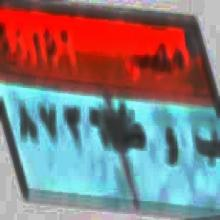2: (64, 104, 83, 157)
6: (88, 102, 108, 160)
7: (39, 97, 58, 148)
8: (16, 97, 36, 148)
Thaa: (118, 99, 148, 160)
baa: (193, 120, 220, 170)
waw: (160, 120, 182, 177)
